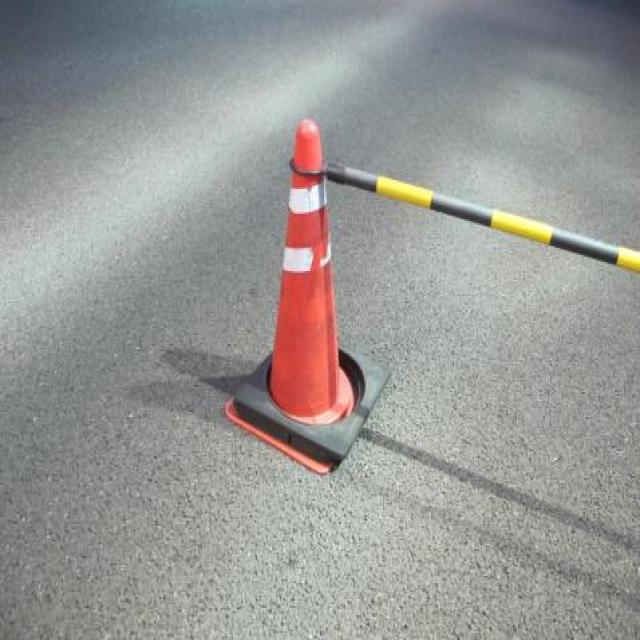Cone: (225, 116, 392, 479)
